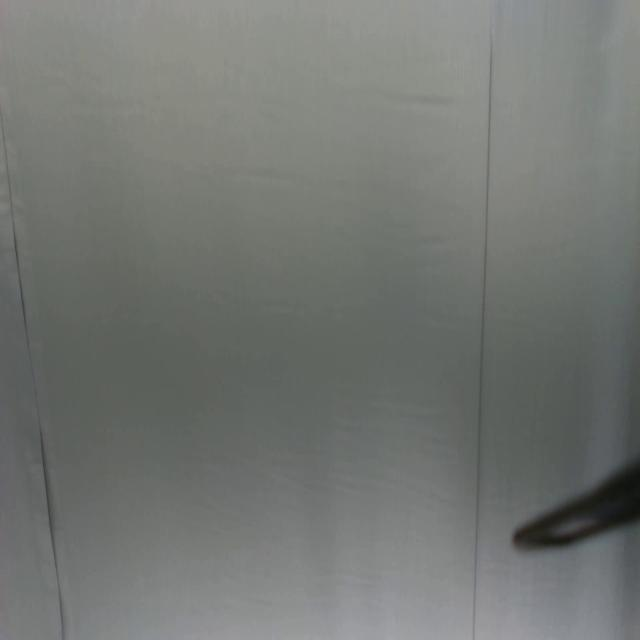crease: (0, 105, 65, 640), (470, 2, 495, 638)
